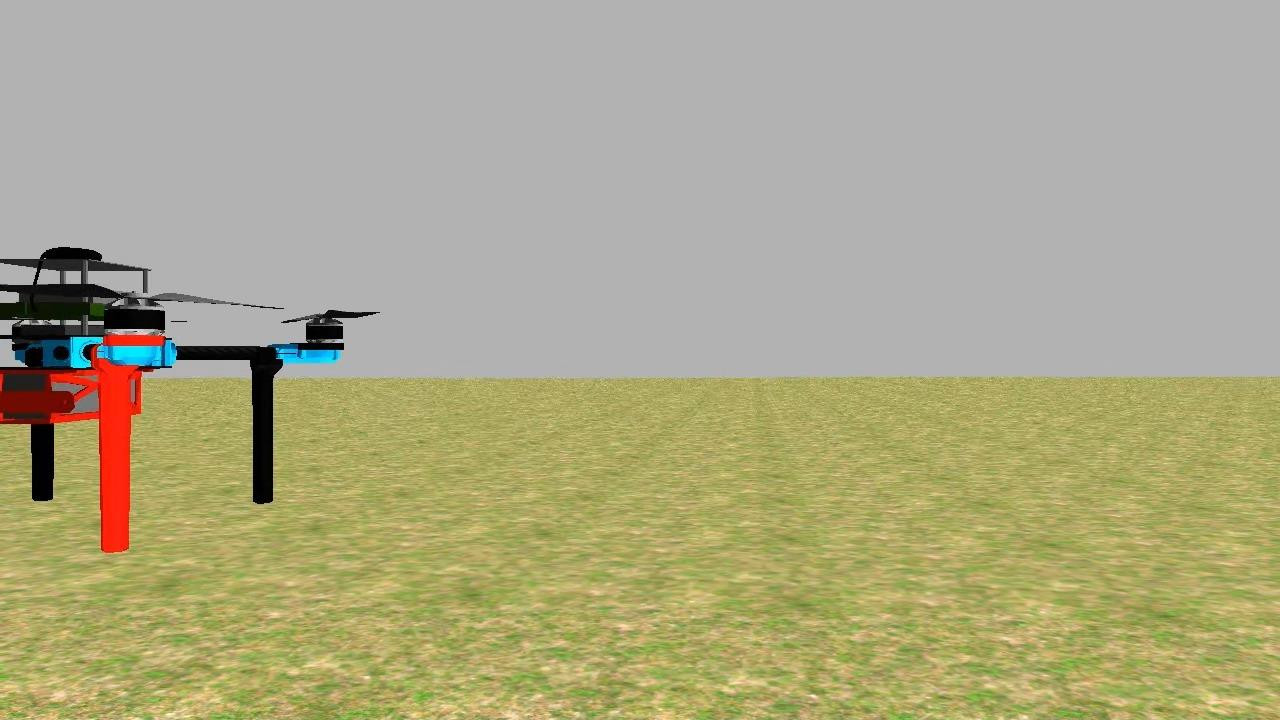UAV: (0, 245, 356, 558)
